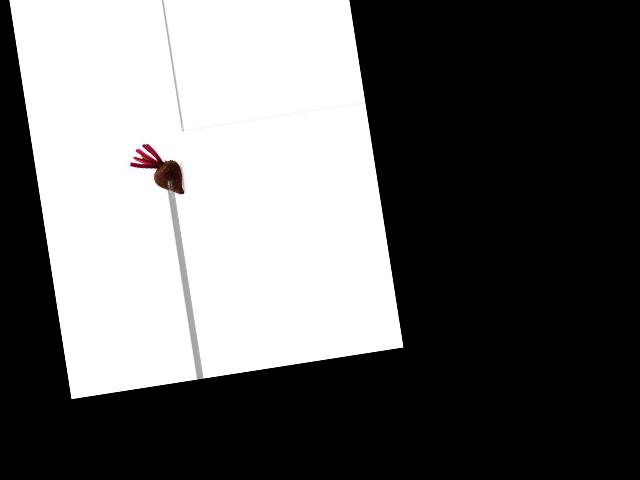beet: (127, 139, 184, 201)
